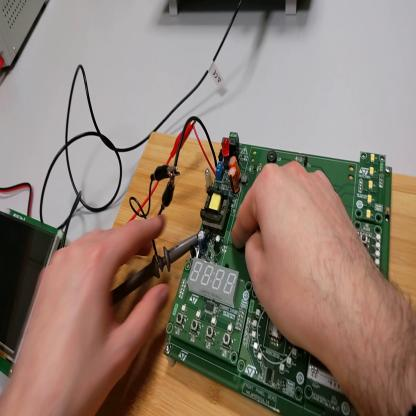hand: (15, 223, 171, 416), (232, 160, 373, 357)
low voltage board: (167, 120, 396, 415)
oscilloscope: (170, 1, 305, 15)
oscilloscope probe tip: (117, 236, 199, 304)
power supply: (2, 2, 51, 67)
working area: (98, 133, 416, 415)
